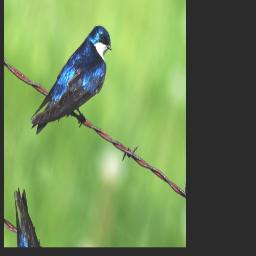Swallow: (28, 0, 116, 172)
